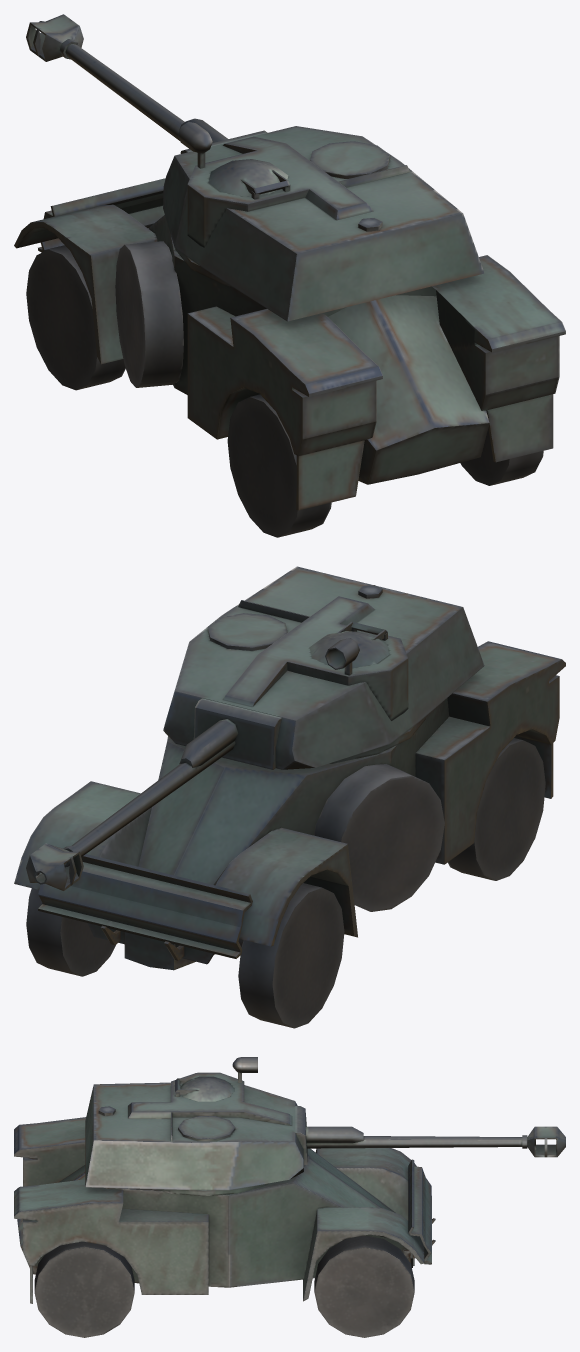
File: AML-90.fbx
3 renders of one model, top to bottom at view 1: azimuth 30°, elevation 25°; view 2: azimuth 150°, elevation 25°; view 3: azimuth 270°, elevation 25°, orthographic. The views are drawn at different scales.
Parts seen in each view (by area): view 1: AML-90 Hull, AML-90 Turret; view 2: AML-90 Hull, AML-90 Turret; view 3: AML-90 Hull, AML-90 Turret.
Boxes of the visible parts, left/top/right/bottom form: AML-90 Hull: left=14, top=178, right=565, bottom=537; AML-90 Turret: left=26, top=14, right=484, bottom=321; AML-90 Hull: left=14, top=641, right=565, bottom=1028; AML-90 Turret: left=26, top=566, right=484, bottom=890; AML-90 Hull: left=14, top=1117, right=435, bottom=1337; AML-90 Turret: left=85, top=1057, right=565, bottom=1196.
Bounding box in the file's own units: 1.97 × 2.08 × 4.87.
